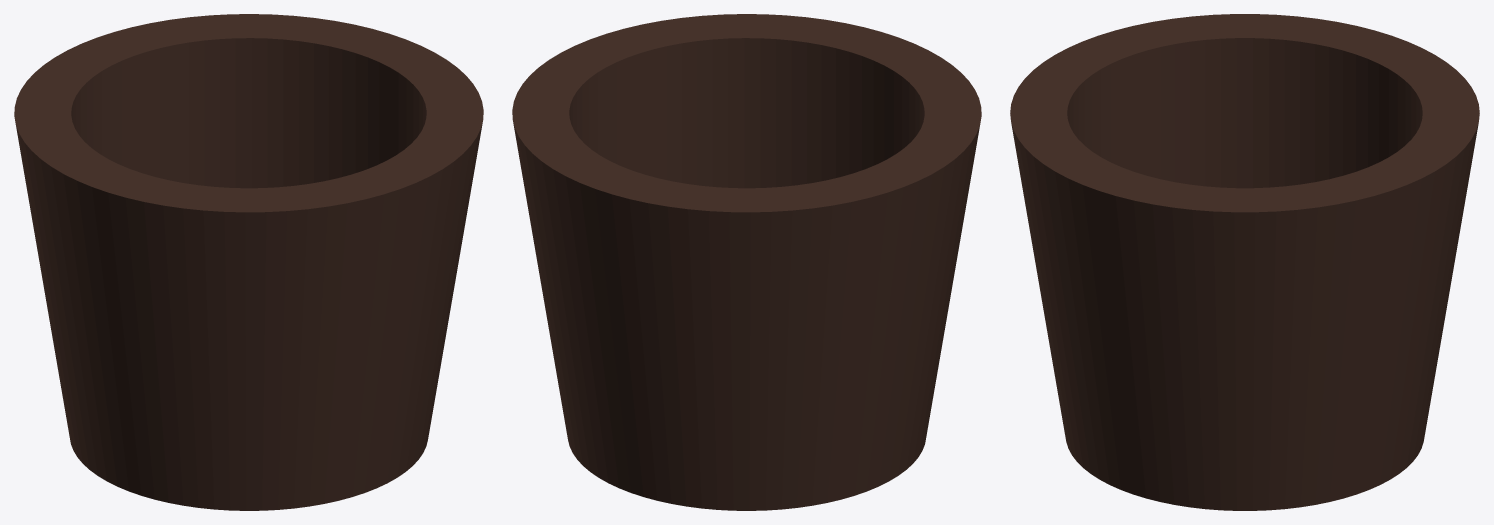
File: PlantPot.fbx
The picture shows the model from 3 angles, left to right: view 1: azimuth 30°, elevation 25°; view 2: azimuth 150°, elevation 25°; view 3: azimuth 270°, elevation 25°; orthographic projection.
Visible parts, largest first — view 1: Cylinder; view 2: Cylinder; view 3: Cylinder.
Boxes of the visible parts, x1=… form: Cylinder: x1=14, y1=14, x2=483, y2=510; Cylinder: x1=512, y1=14, x2=981, y2=510; Cylinder: x1=1010, y1=14, x2=1479, y2=510.
Size of the model in its own units: 158 by 120 by 159.
